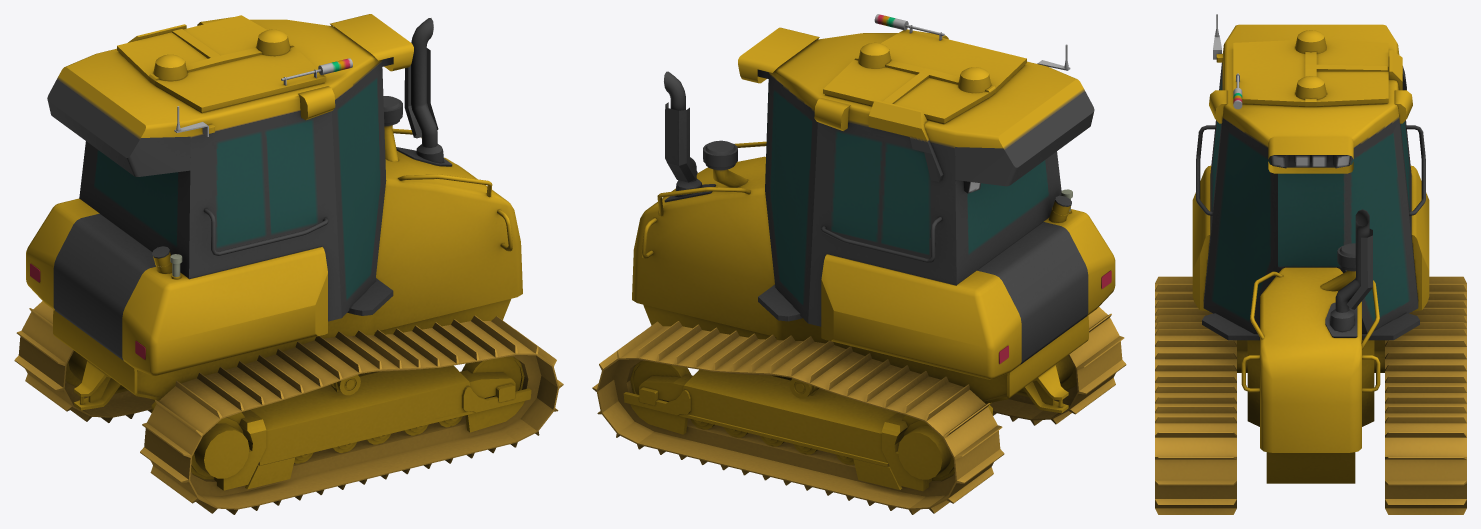
The model's file is d37pxi24-body.dae.
3 renders of one model, left to right at view 1: azimuth 30°, elevation 25°; view 2: azimuth 150°, elevation 25°; view 3: azimuth 270°, elevation 25°, orthographic. The views are drawn at different scales.
Visible parts, largest first — view 1: d37pxi24-body; view 2: d37pxi24-body; view 3: d37pxi24-body.
Boxes of the visible parts, left/top/right/bottom form: d37pxi24-body: left=14, top=14, right=563, bottom=514; d37pxi24-body: left=592, top=14, right=1126, bottom=514; d37pxi24-body: left=1155, top=14, right=1466, bottom=514.
Bounding box in the file's own units: 3.33 × 2.32 × 2.96.
1 material, 1 textured.
